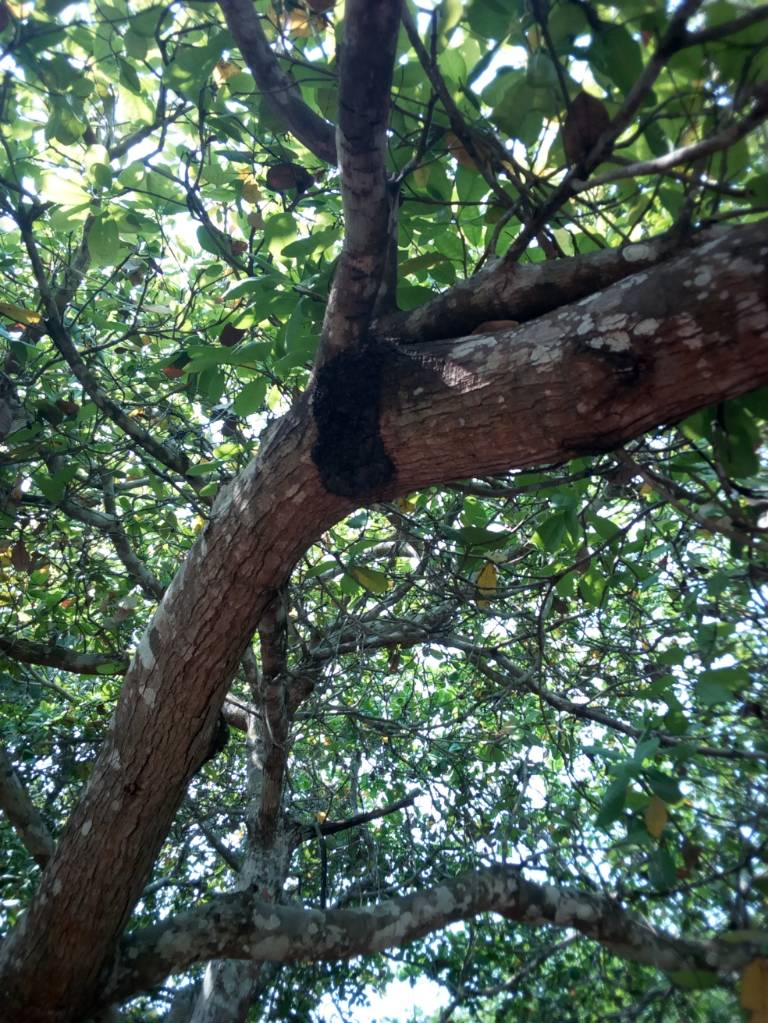ploceadorus ferrugineus: (288, 337, 438, 544)
